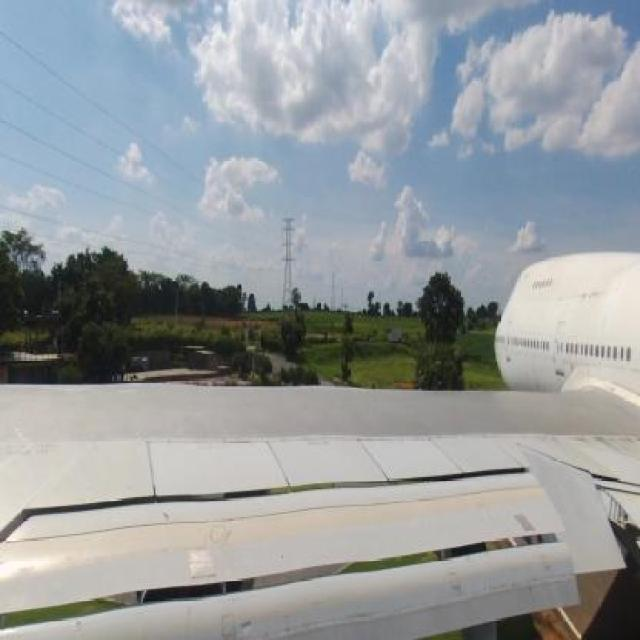Rust: (570, 284, 608, 307)
Scartch: (558, 428, 640, 463)
